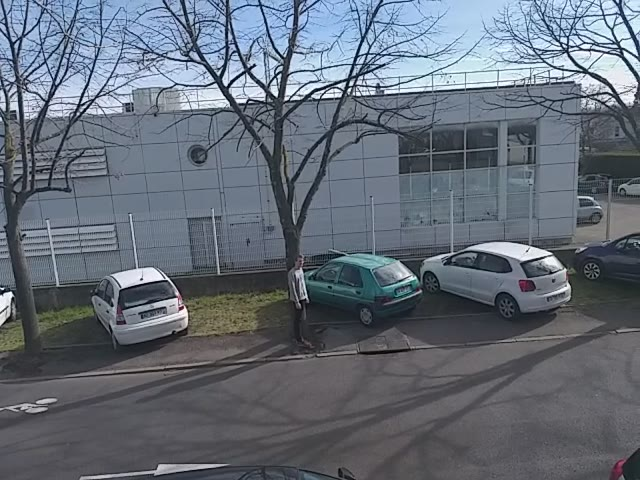persona: (282, 249, 317, 354)
